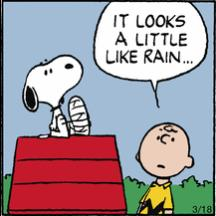charlie: (133, 120, 195, 216)
snoopy: (20, 52, 92, 140)
